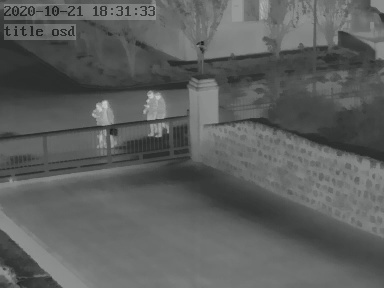person: (144, 89, 170, 139), (92, 100, 116, 147)
